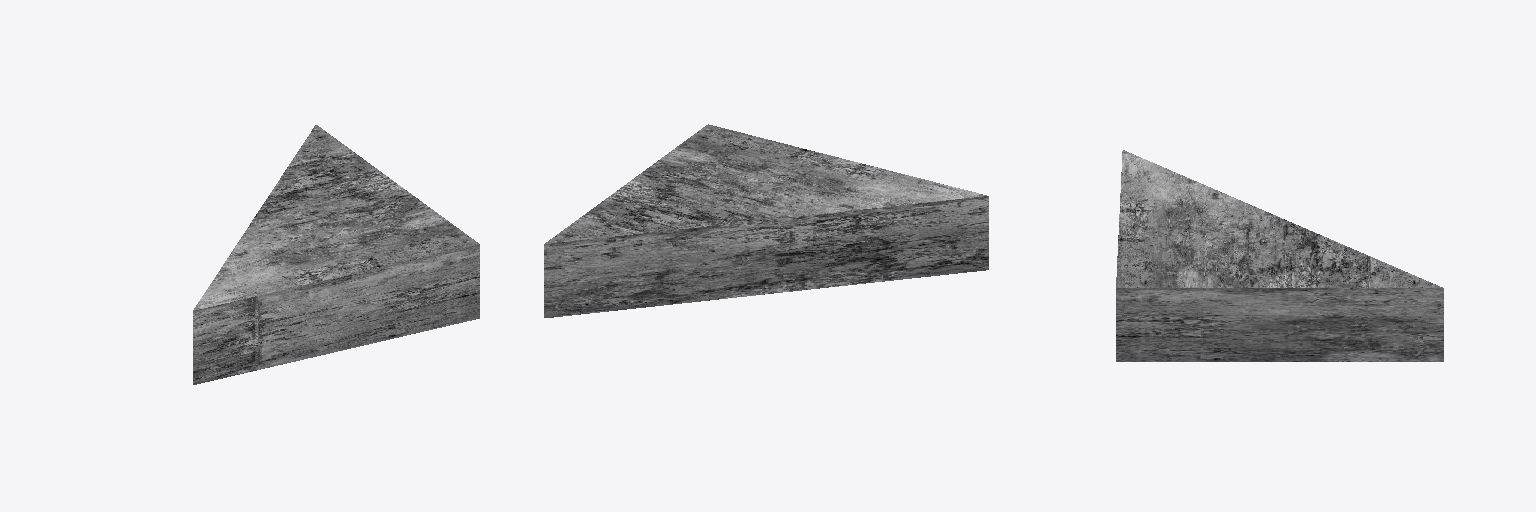
3 renders of one model, left to right at view 1: azimuth 30°, elevation 25°; view 2: azimuth 150°, elevation 25°; view 3: azimuth 270°, elevation 25°, orthographic.
Parts seen in each view (by area): view 1: Prism001; view 2: Prism001; view 3: Prism001.
Boxes of the visible parts, x1=… form: Prism001: x1=193, y1=125, x2=479, y2=384; Prism001: x1=544, y1=124, x2=988, y2=317; Prism001: x1=1116, y1=150, x2=1443, y2=361.
Size of the model in its own units: 20 by 5 by 20.
1 materials, 1 textured.